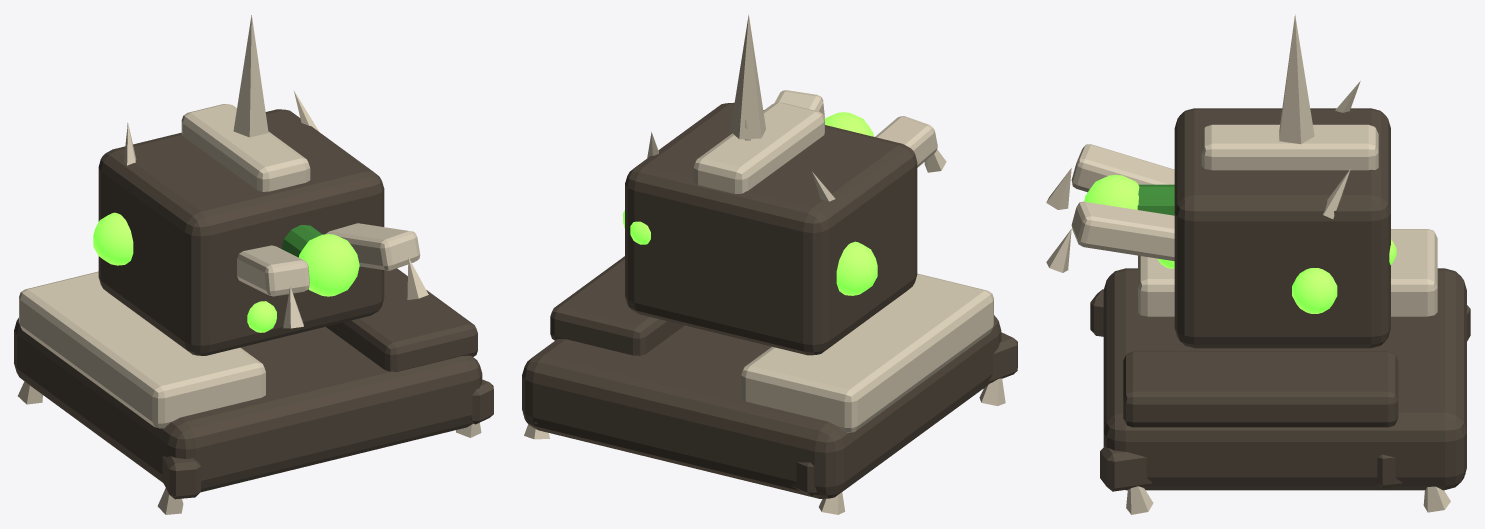
Rendered from verdant_spitter_acid_projectile_turret.glb.
3 renders of one model, left to right at view 1: azimuth 30°, elevation 25°; view 2: azimuth 150°, elevation 25°; view 3: azimuth 270°, elevation 25°, orthographic. The views are drawn at different scales.
Visible parts, largest first — view 1: VER_thorax, VER_base_main, VER_plate_left, VER_plate_right, VER_dorsal_ridge, VER_mandible_L, VER_mandible_R, VER_acid_core, VER_dorsal_spine, VER_acid_sac_0, VER_leg_fl, VER_leg_fr (+2 smaller); view 2: VER_thorax, VER_base_main, VER_plate_left, VER_plate_right, VER_dorsal_ridge, VER_dorsal_spine, VER_acid_sac_0, VER_mandible_L, VER_leg_fl, VER_mandible_R, VER_acid_core, VER_leg_bl; view 3: VER_thorax, VER_base_main, VER_plate_right, VER_dorsal_ridge, VER_plate_left, VER_mandible_R, VER_mandible_L, VER_dorsal_spine, VER_leg_fr, VER_acid_sac_1, VER_acid_core, VER_maw_tube (+6 smaller).
Boxes of the visible parts, x1,y1,x2,y2 form: VER_thorax: [98, 109, 384, 355]; VER_base_main: [14, 318, 482, 492]; VER_plate_left: [19, 271, 265, 428]; VER_plate_right: [326, 268, 477, 371]; VER_dorsal_ridge: [181, 104, 310, 191]; VER_mandible_L: [237, 245, 309, 296]; VER_mandible_R: [325, 223, 420, 270]; VER_acid_core: [299, 234, 359, 296]; VER_dorsal_spine: [233, 15, 268, 137]; VER_acid_sac_0: [93, 212, 133, 265]; VER_leg_fl: [161, 456, 200, 499]; VER_leg_fr: [470, 379, 493, 424]; VER_thorax: [625, 102, 917, 355]; VER_base_main: [522, 315, 1001, 498]; VER_plate_left: [741, 273, 993, 432]; VER_plate_right: [550, 256, 684, 355]; VER_dorsal_ridge: [693, 102, 824, 193]; VER_dorsal_spine: [730, 14, 765, 139]; VER_acid_sac_0: [836, 241, 877, 295]; VER_mandible_L: [875, 116, 937, 167]; VER_leg_fl: [989, 332, 1017, 382]; VER_mandible_R: [774, 90, 824, 117]; VER_acid_core: [825, 112, 874, 136]; VER_leg_bl: [792, 462, 870, 495]; VER_thorax: [1174, 108, 1390, 348]; VER_base_main: [1103, 268, 1466, 490]; VER_plate_right: [1123, 351, 1398, 427]; VER_dorsal_ridge: [1201, 124, 1378, 170]; VER_plate_left: [1138, 229, 1437, 316]; VER_mandible_R: [1071, 201, 1174, 261]; VER_mandible_L: [1071, 144, 1174, 192]; VER_dorsal_spine: [1279, 14, 1314, 144]; VER_leg_fr: [1100, 446, 1152, 491]; VER_acid_sac_1: [1292, 268, 1337, 313]; VER_acid_core: [1084, 175, 1139, 209]; VER_maw_tube: [1137, 184, 1174, 215].
Size of the model in its own units: 1.64 by 1.9 by 1.73.
